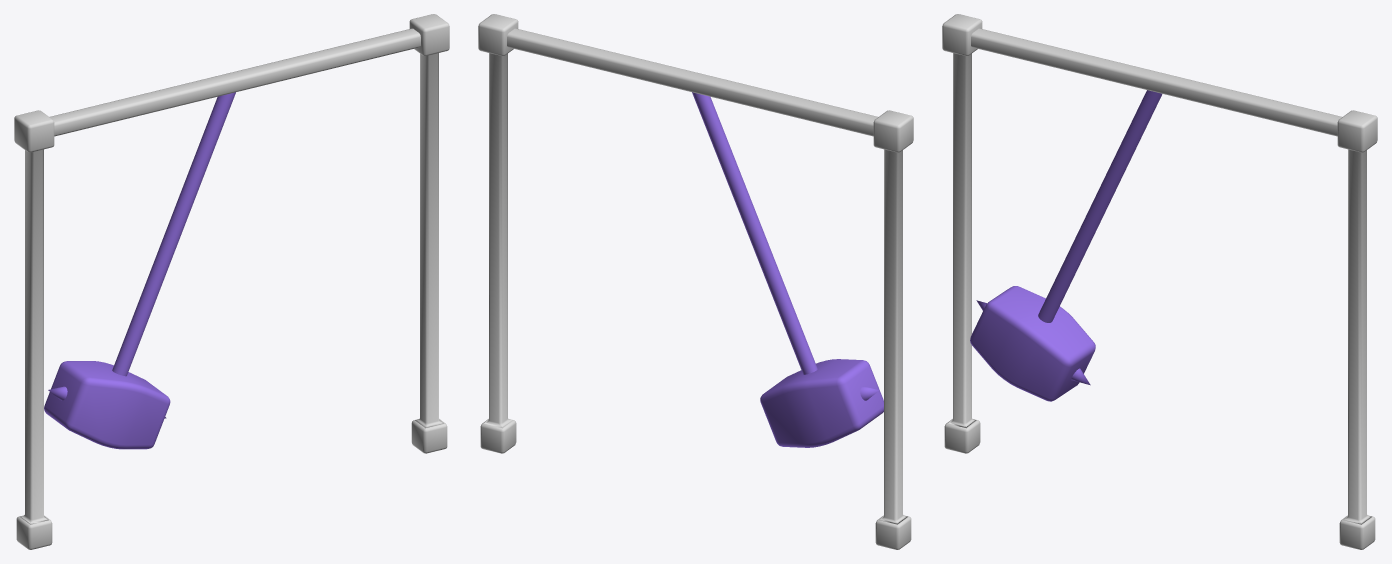
The model's file is left_right_obstacle.fbx.
The picture shows the model from 3 angles, left to right: view 1: azimuth 30°, elevation 25°; view 2: azimuth 150°, elevation 25°; view 3: azimuth 330°, elevation 25°; orthographic projection.
Visible parts, largest first — view 1: hammer, left, right, up; view 2: hammer, left, right, up; view 3: hammer, right, left, up.
Part boxes in pixels (x1,y1,x2,y2): hammer: (44, 92, 235, 449); left: (14, 110, 54, 549); right: (409, 14, 449, 453); up: (50, 28, 420, 136); hammer: (692, 92, 883, 447); left: (873, 110, 913, 549); right: (478, 14, 518, 453); up: (507, 28, 877, 136); hammer: (970, 90, 1162, 401); right: (1337, 110, 1377, 549); left: (942, 14, 982, 453); up: (971, 28, 1341, 136).
Size of the model in its own units: 1.59 by 1.54 by 0.2302.
